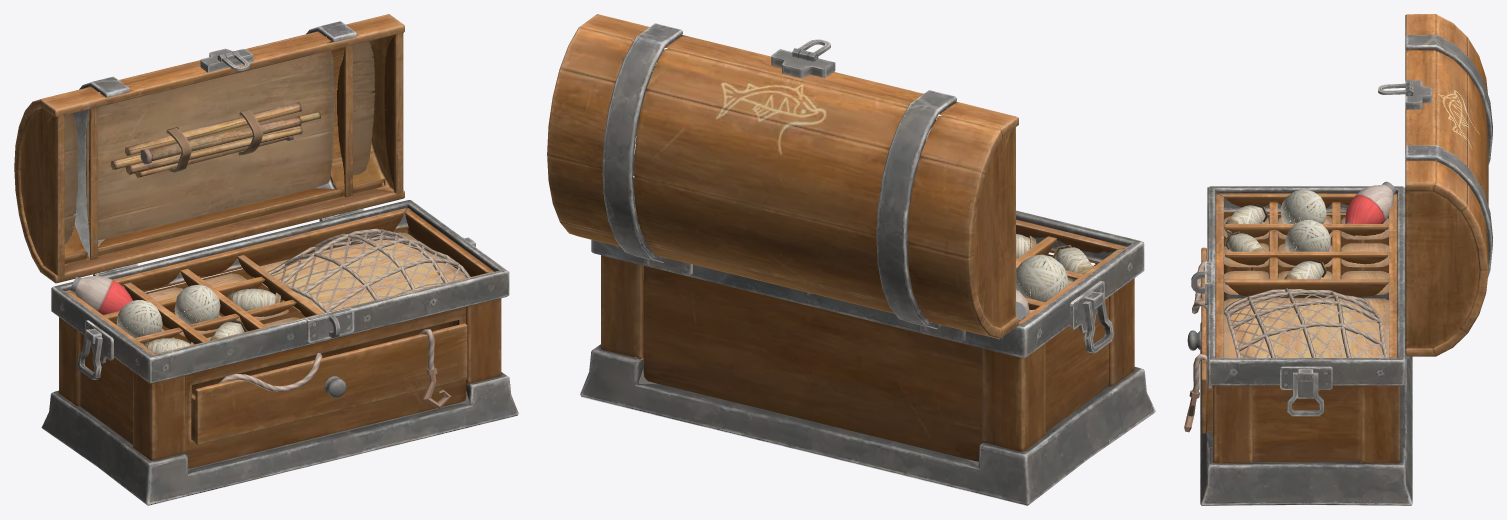
3 views of the same model, side by side, from view 1: azimuth 30°, elevation 25°; view 2: azimuth 150°, elevation 25°; view 3: azimuth 270°, elevation 25° (orthographic). The views are drawn at different scales.
Parts seen in each view (by area): view 1: SM_Tackle_Box_01_LOD0; view 2: SM_Tackle_Box_01_LOD0; view 3: SM_Tackle_Box_01_LOD0.
Boxes of the visible parts, box(x1,y1,x2,y2) form: SM_Tackle_Box_01_LOD0: box(14, 14, 518, 505); SM_Tackle_Box_01_LOD0: box(547, 14, 1155, 505); SM_Tackle_Box_01_LOD0: box(1184, 14, 1492, 505).
Bounding box in the file's own units: 1.39 × 1.13 × 0.9571.
6 materials, 6 textured.
